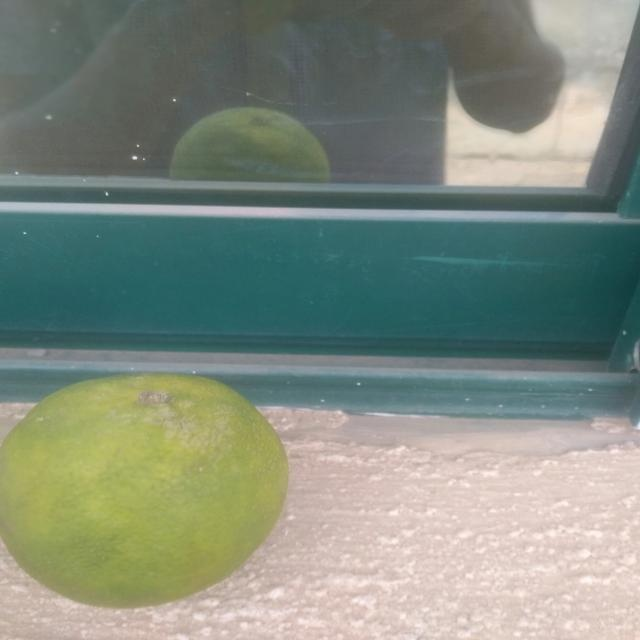agrume: (0, 351, 306, 629)
